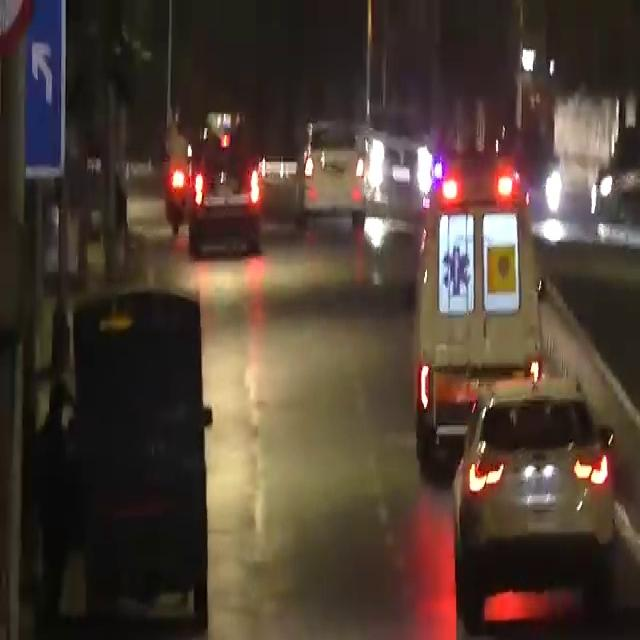ambulance: (409, 144, 535, 380)
